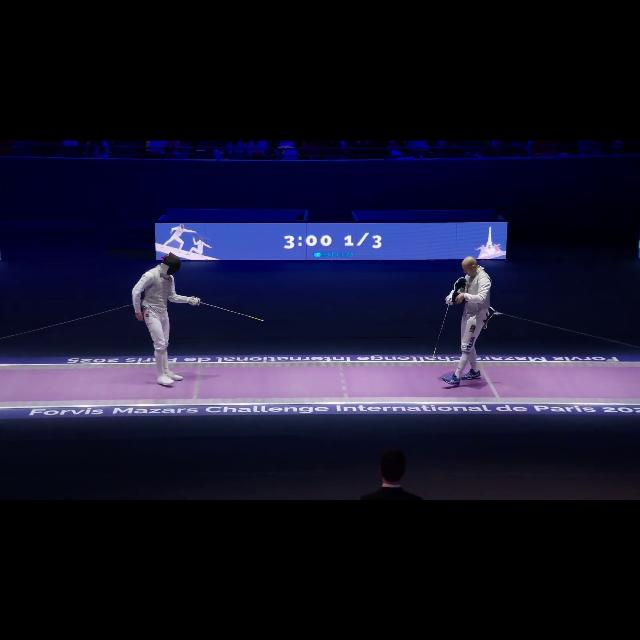blade: (189, 294, 273, 326), (429, 298, 455, 366)
